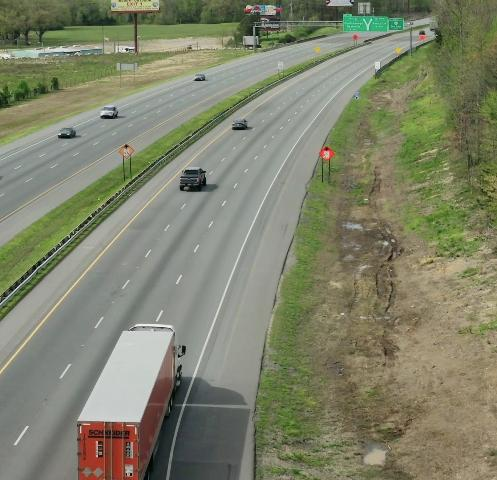car: (97, 103, 122, 121), (58, 124, 77, 140), (230, 117, 251, 131), (191, 75, 207, 84)
pickup-truck: (175, 164, 212, 191)
truck: (76, 320, 190, 480)
